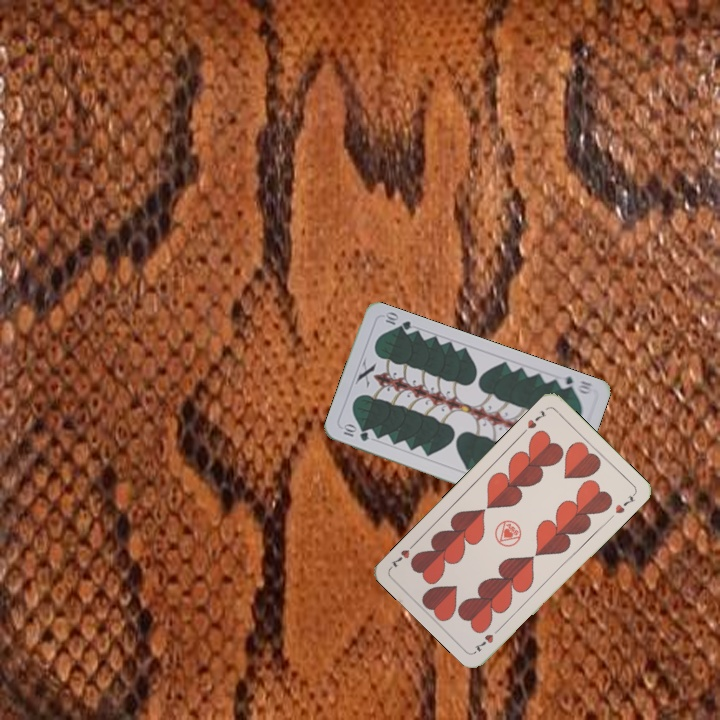G10: (554, 372, 595, 397), (338, 421, 371, 444)
H7: (471, 623, 504, 655), (518, 406, 548, 437)
